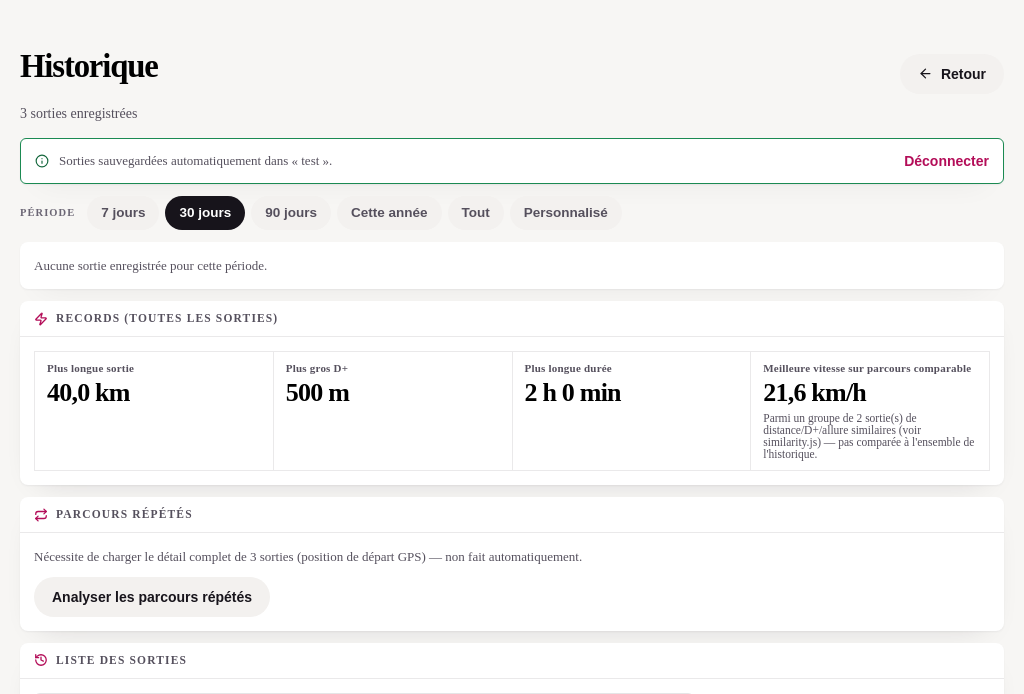
it: HistoryDashboard — plusieurs activités › le changement de période met à jour le nombre de sorties affichées
Click the button "Tout" at (476,213), box [448, 196, 504, 230]
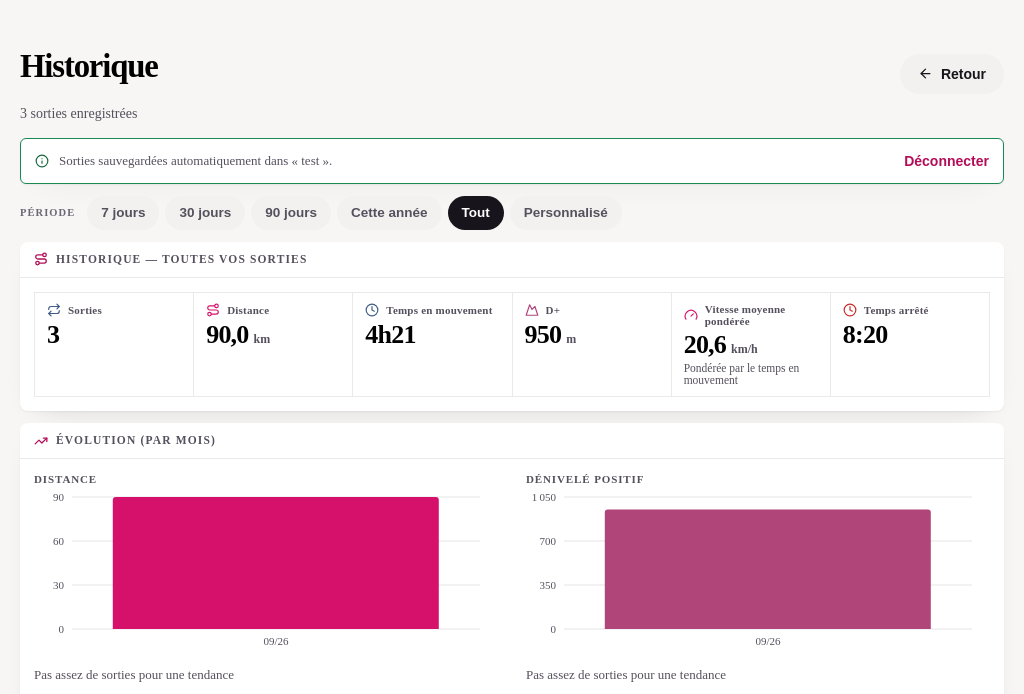
Now the text "Historique — toutes vos sorties" is shown, box [56, 252, 308, 267]
// Bascule vers "Personnalisé" avec une plage ne couvrant qu'une seule sortie.
Click the button "Personnalisé" at (566,213), box [510, 196, 622, 230]
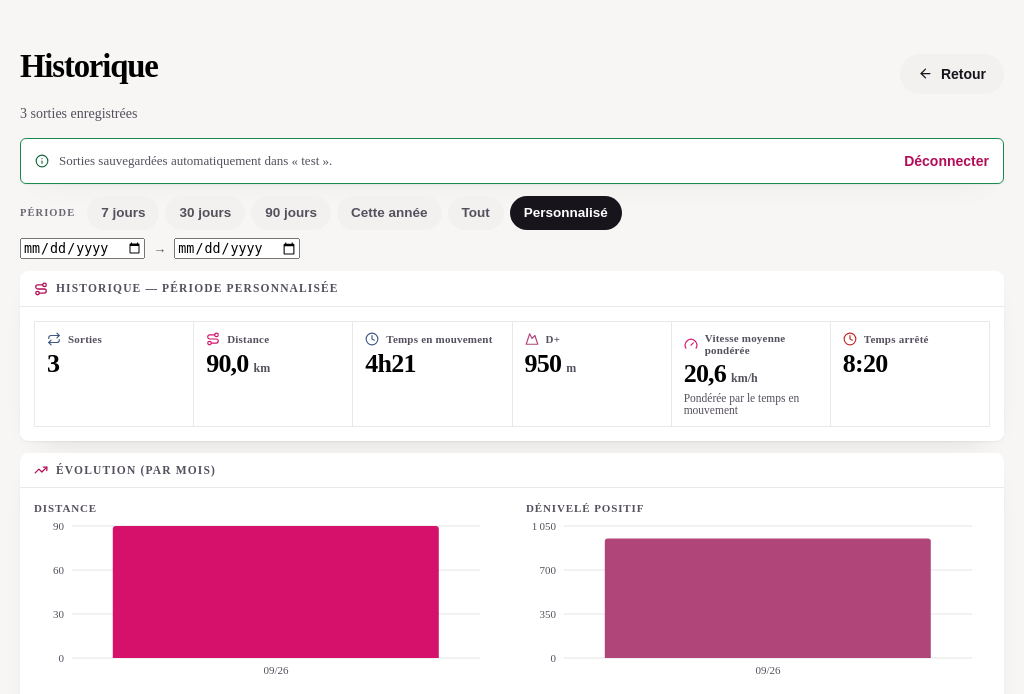
Type "2026-09-04" into the date field named "Date de début" at (83,249), box [20, 238, 145, 259]
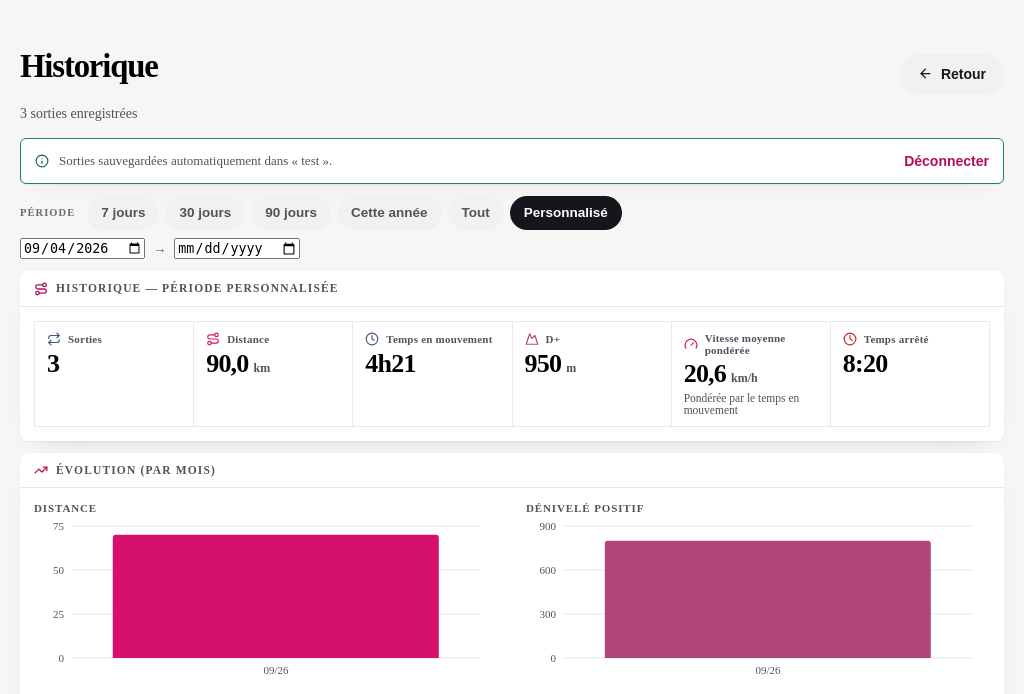
Type "2026-09-06" into the date field named "Date de fin" at (237,249), box [174, 238, 300, 259]
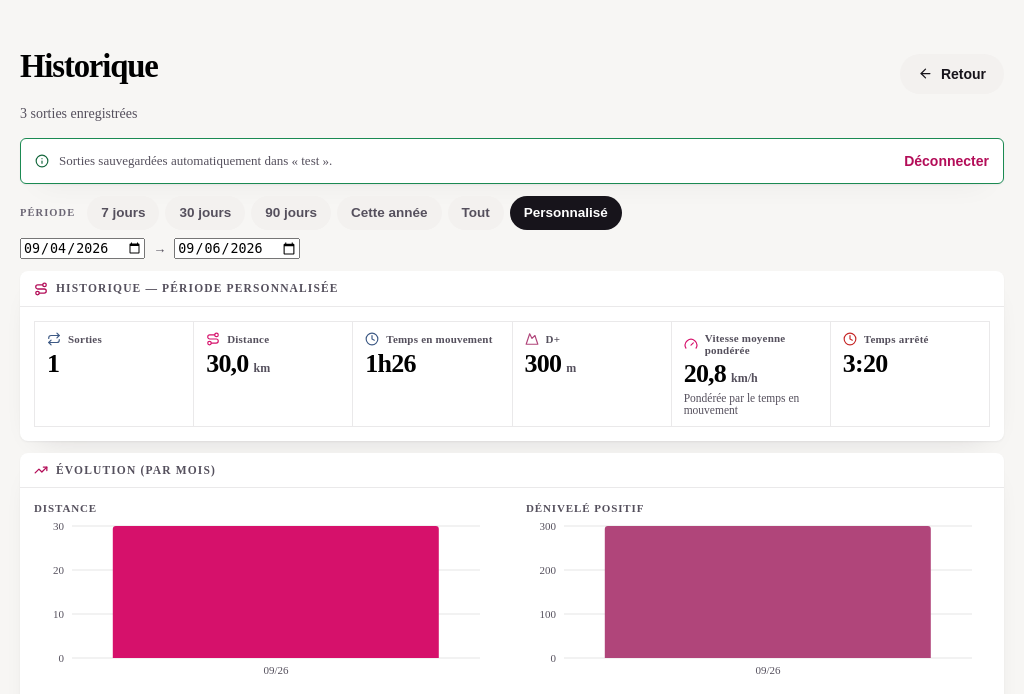
Now the text "1" is shown, box [47, 350, 59, 378]
